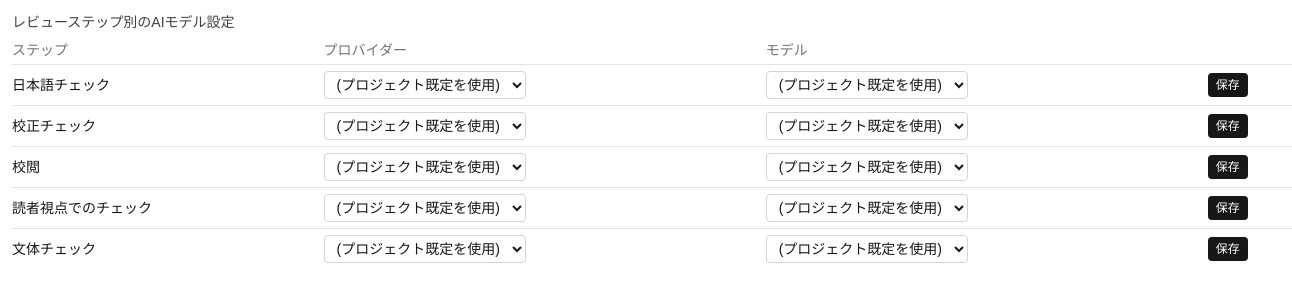
Test case: ReviewStepSettingsPanel › 保存の通信自体が例外で失敗しても、エラーメッセージを表示して保存前の値へ戻す
Select "OpenAI (ChatGPT)" in the dropdown named "文体チェックのプロバイダー": (425, 249) 324,235 -> 526,263
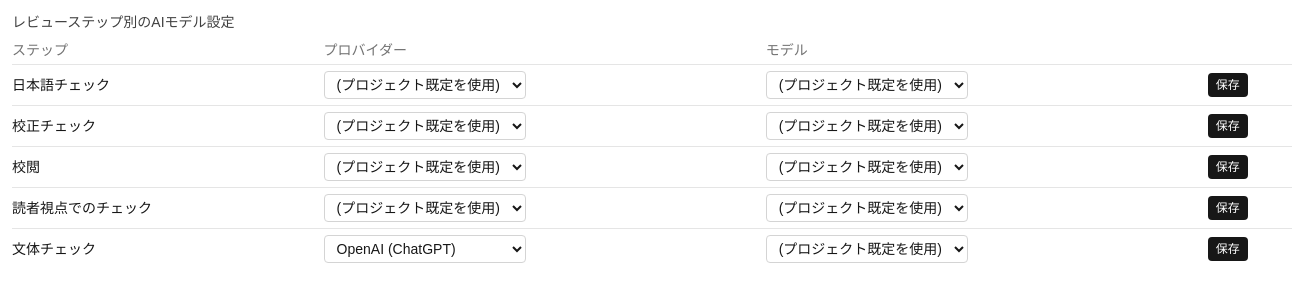
Click the button "保存" in the row of "文体チェック": (1228, 249) 1208,237 -> 1248,261
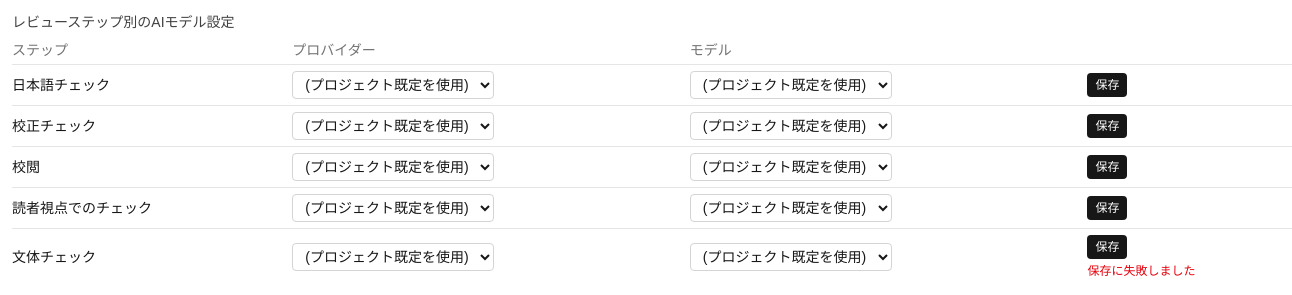
Check: the button "保存" in the row of "文体チェック" is enabled, box 1087,235 -> 1127,259
Check: the text "保存に失敗しました" is shown, box 1087,264 -> 1195,278
